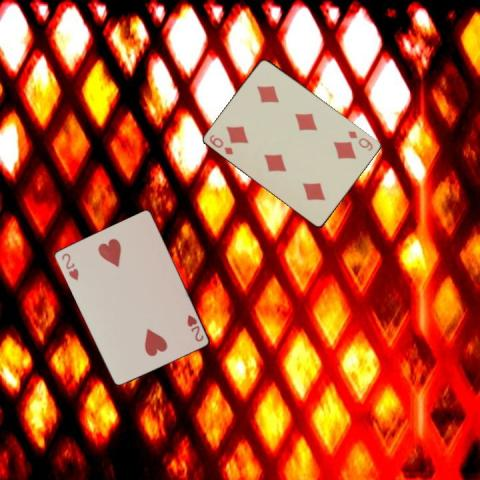2h: (59, 250, 80, 282), (185, 312, 205, 343)
6d: (345, 128, 375, 152), (206, 131, 234, 156)
